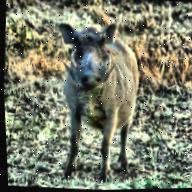boar: (47, 19, 147, 187)
